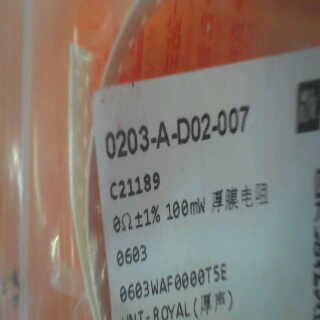0R: (110, 200, 167, 276)
